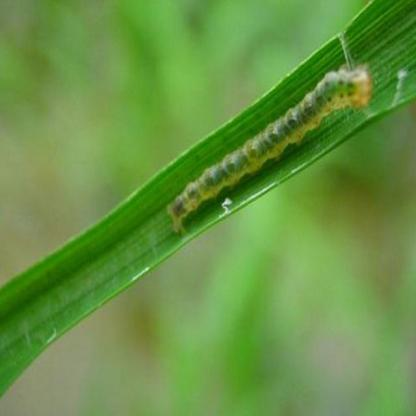leaf-folder: (161, 59, 375, 235)
